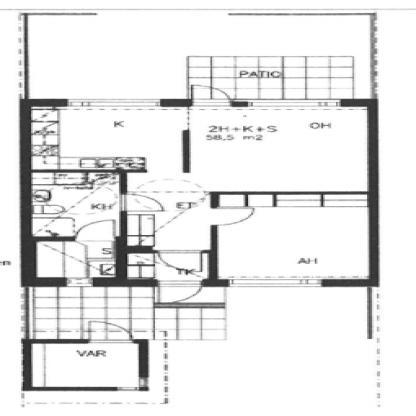bathroom: (28, 172, 124, 280)
door: (151, 280, 208, 306), (183, 84, 238, 110), (153, 249, 210, 274), (80, 319, 136, 344), (63, 218, 120, 242), (200, 205, 257, 228), (115, 192, 167, 216)
perimeter: (26, 99, 380, 285), (27, 340, 148, 392)
window: (241, 96, 346, 112), (219, 276, 330, 290), (63, 98, 169, 111), (61, 274, 97, 290), (132, 376, 158, 390), (108, 384, 142, 392)
